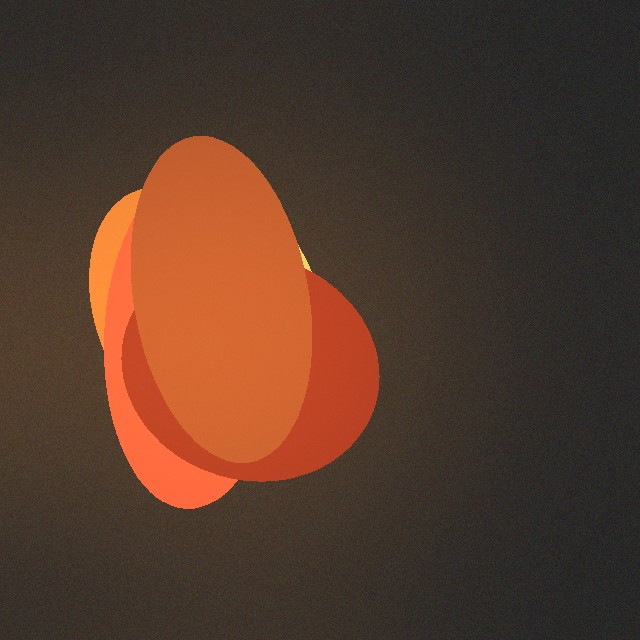fire: (72, 271, 380, 419)
